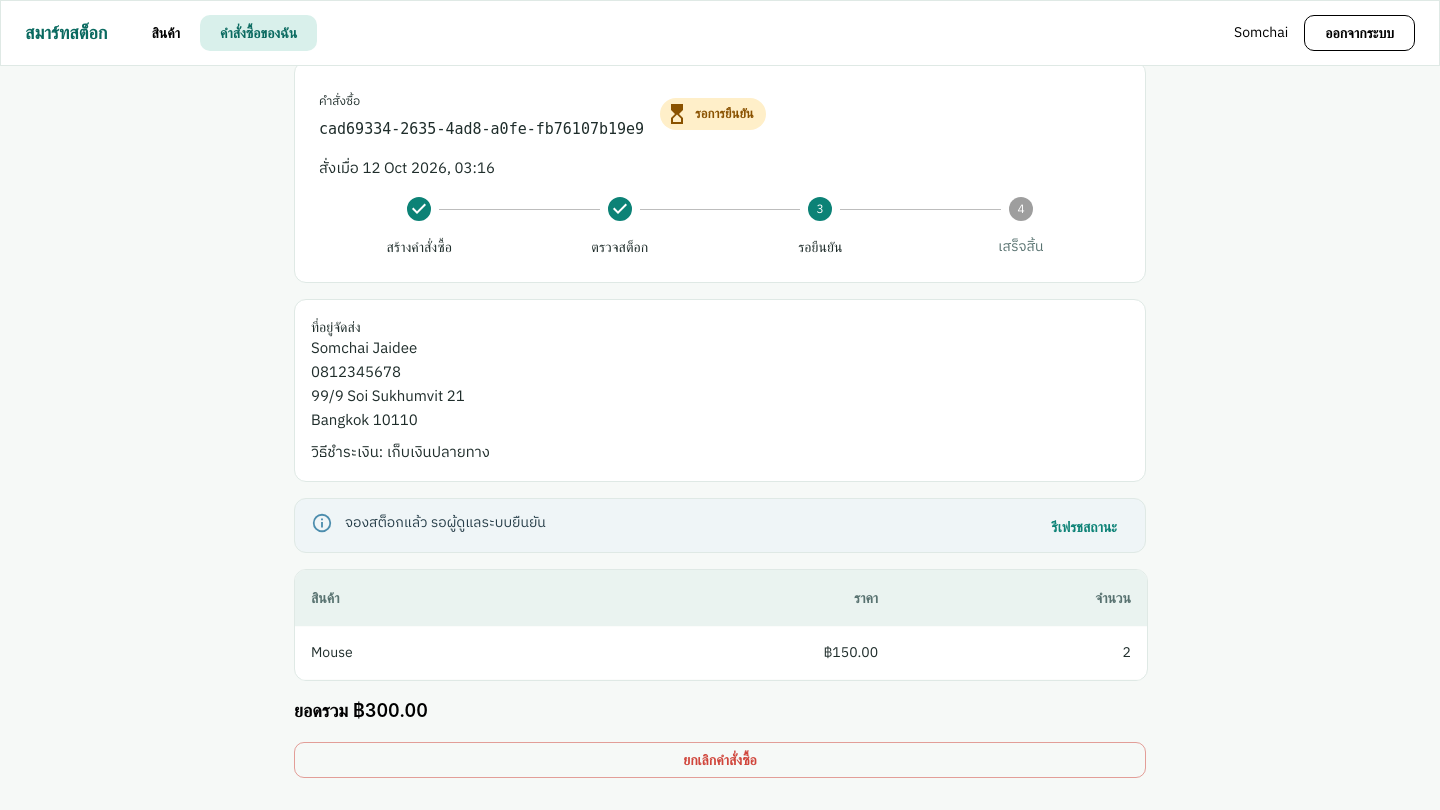
Test: cancels after confirmation and shows the Cancelled status
(page scrolled)
Click the button "ยกเลิกคำสั่งซื้อ". click: (720, 760)
box: [294,742,1146,778]
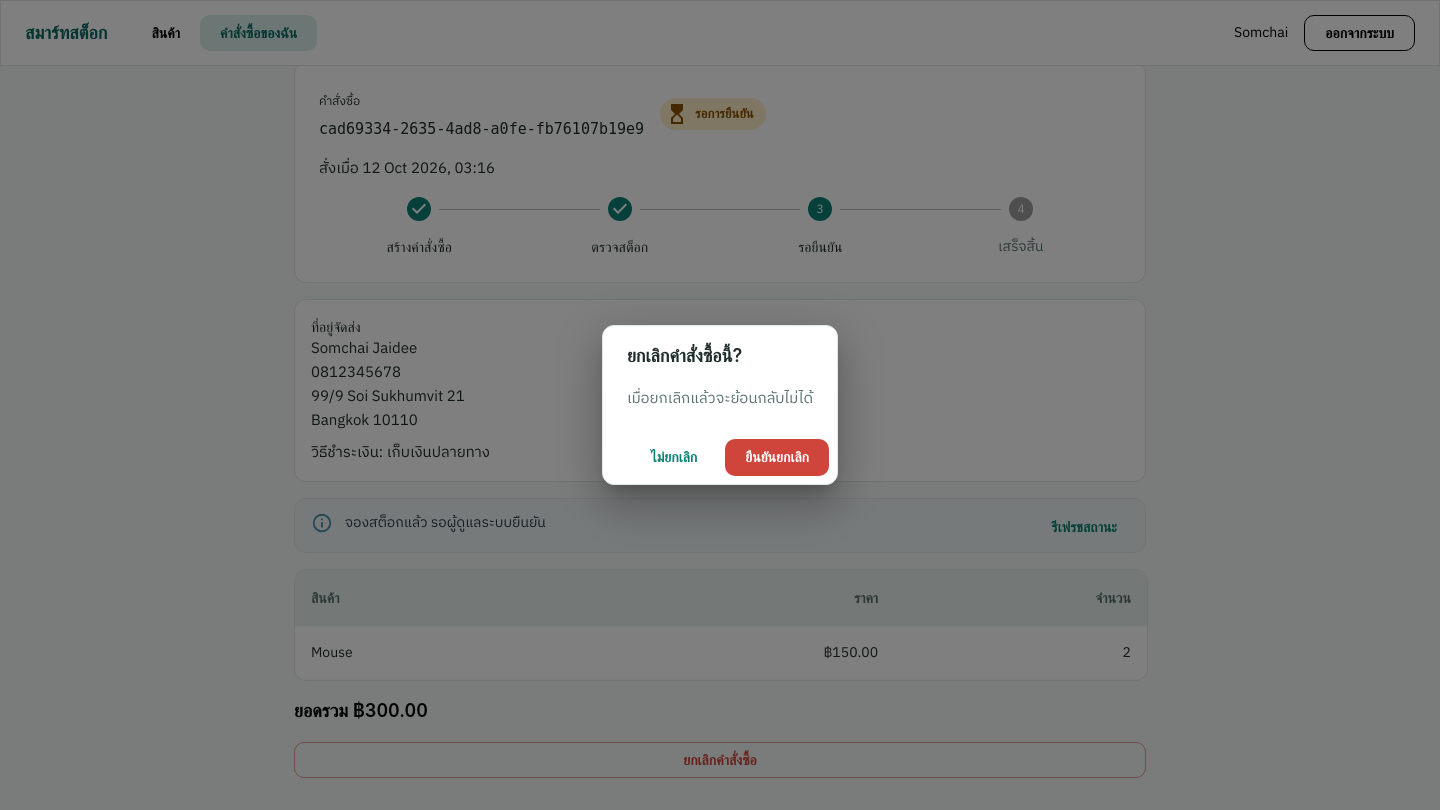
Click the button "ยืนยันยกเลิก". click: (777, 457)
box: [725,439,829,476]
(page scrolled)
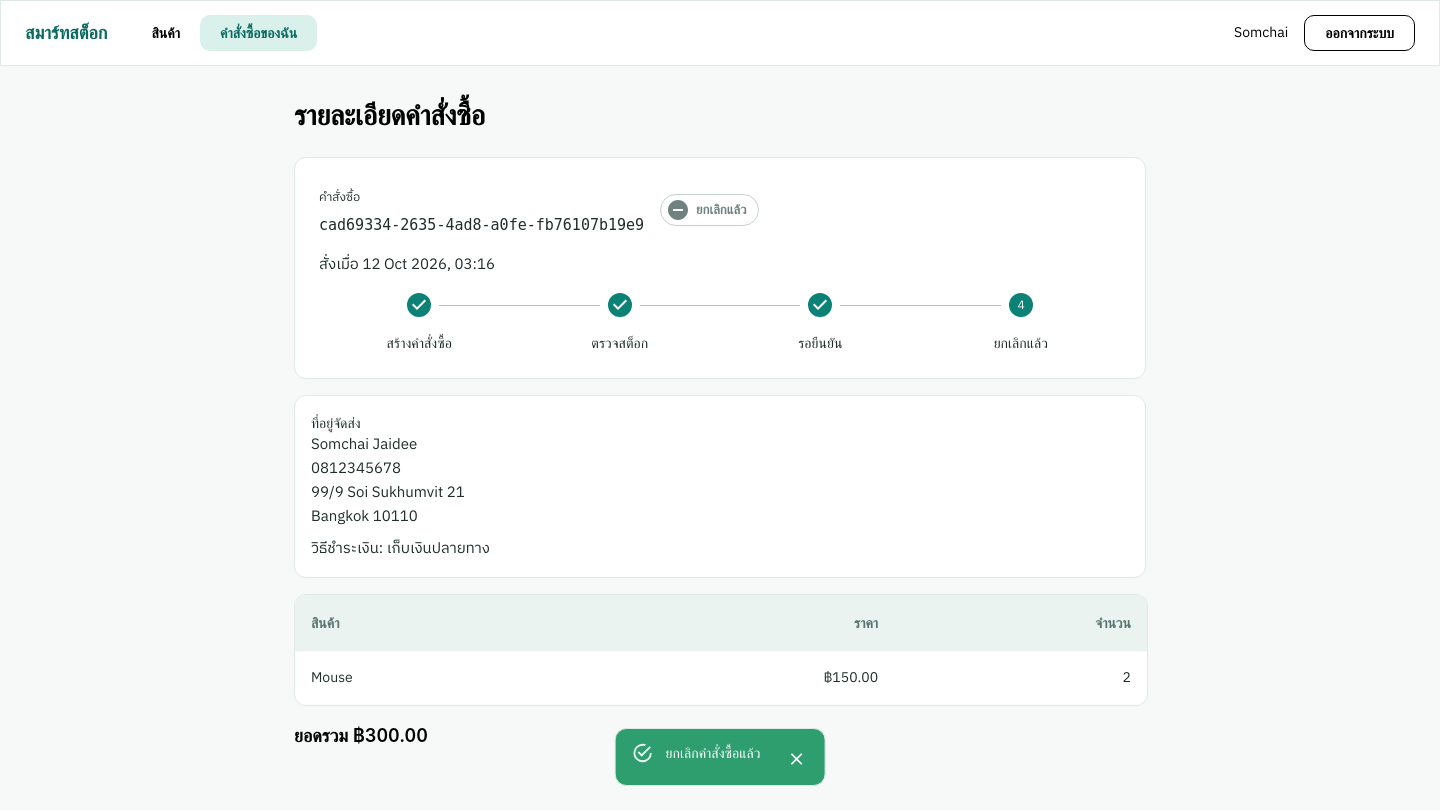
Expected: the text "ยกเลิกคำสั่งซื้อแล้ว" is shown, [666,744,760,761]
